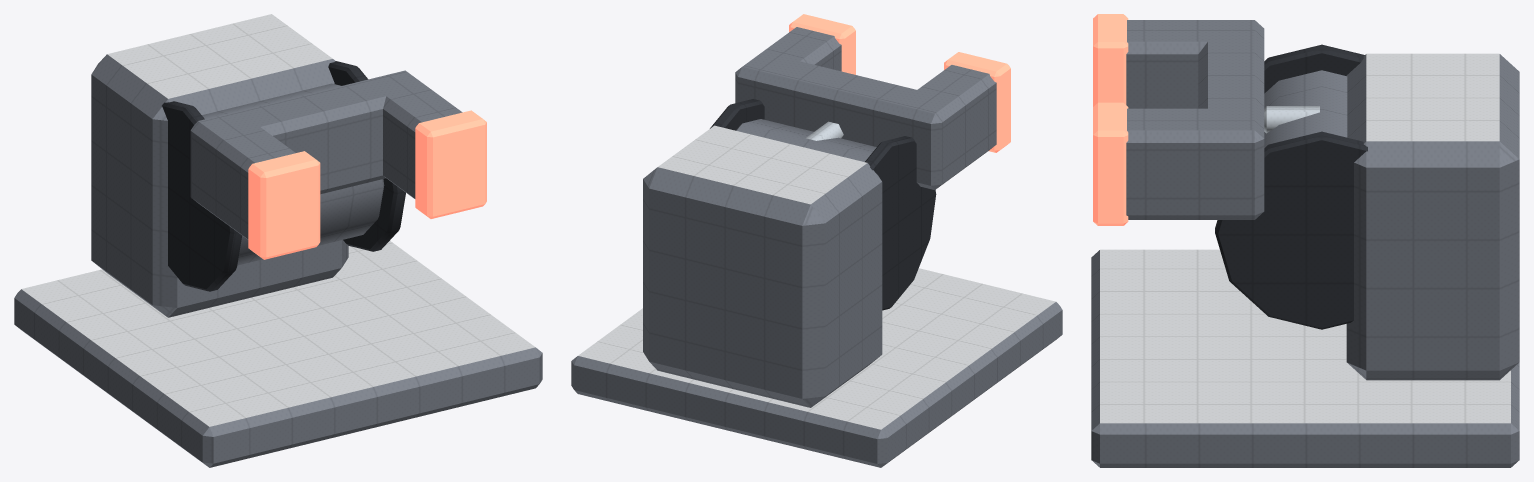
Rendered from R4X_MagneticGrapple_LOD1.glb.
3 views of the same model, side by side, from view 1: azimuth 30°, elevation 25°; view 2: azimuth 150°, elevation 25°; view 3: azimuth 270°, elevation 25° (orthographic). The views are drawn at different scales.
Parts seen in each view (by area): view 1: R4X_MagneticGrapple_LOD1; view 2: R4X_MagneticGrapple_LOD1; view 3: R4X_MagneticGrapple_LOD1.
Boxes of the visible parts, x1,y1,x2,y2 form: R4X_MagneticGrapple_LOD1: [14, 14, 542, 467]; R4X_MagneticGrapple_LOD1: [571, 14, 1062, 467]; R4X_MagneticGrapple_LOD1: [1091, 14, 1519, 467].
Bounding box in the file's own units: 0.52 × 0.414 × 0.52.
5 materials, 4 textured.
